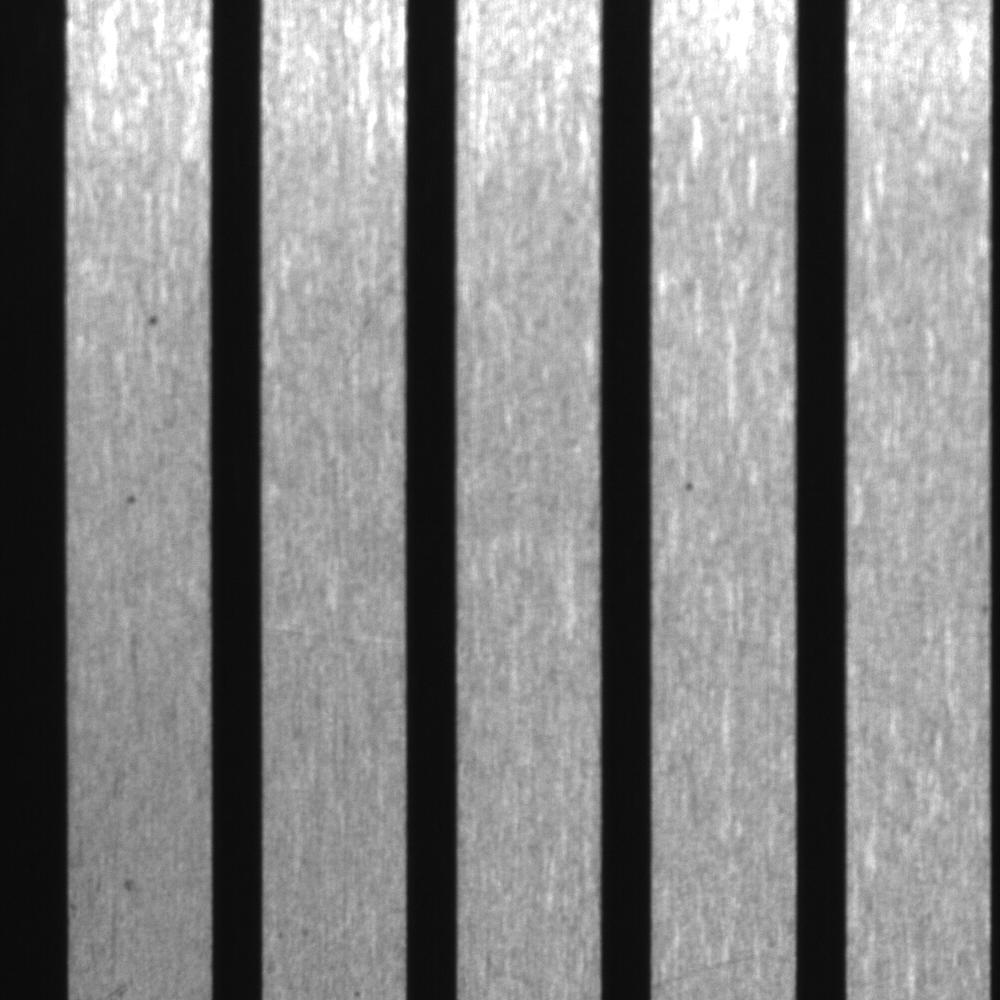Etching: (115, 866, 144, 900)
Pinhole: (131, 292, 183, 345), (103, 479, 156, 519), (680, 469, 703, 501)
Scar: (652, 929, 787, 998), (263, 616, 405, 660)
